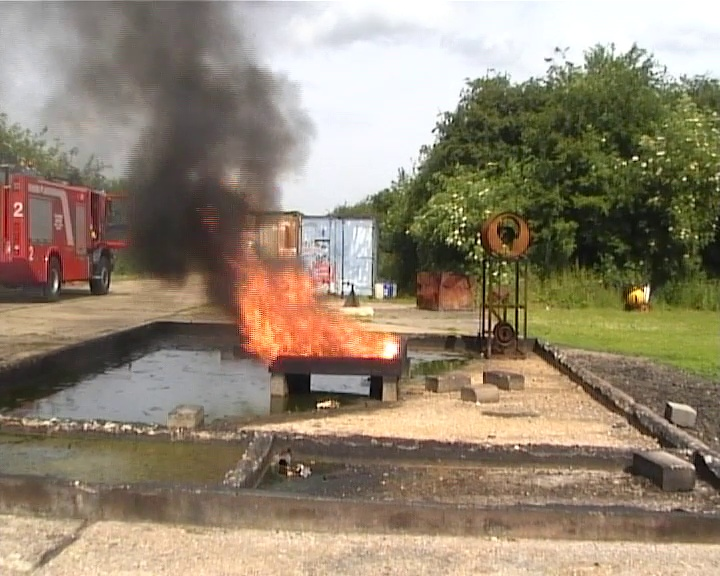fire: (231, 263, 394, 357)
